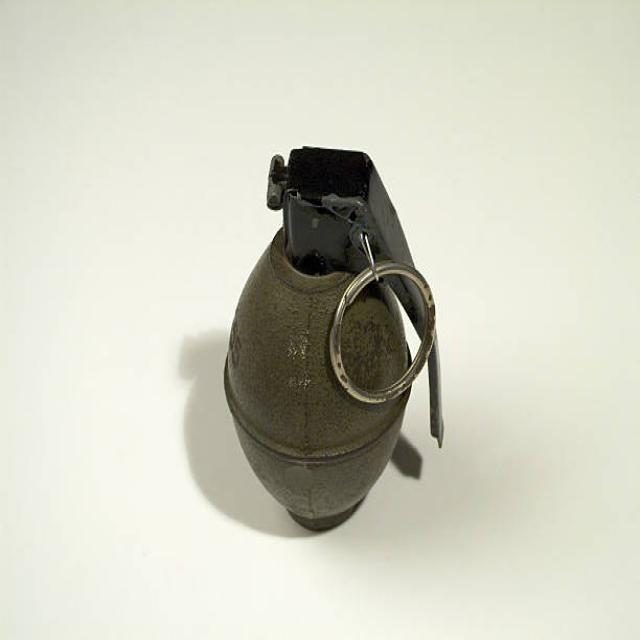grenade: (215, 136, 452, 549)
